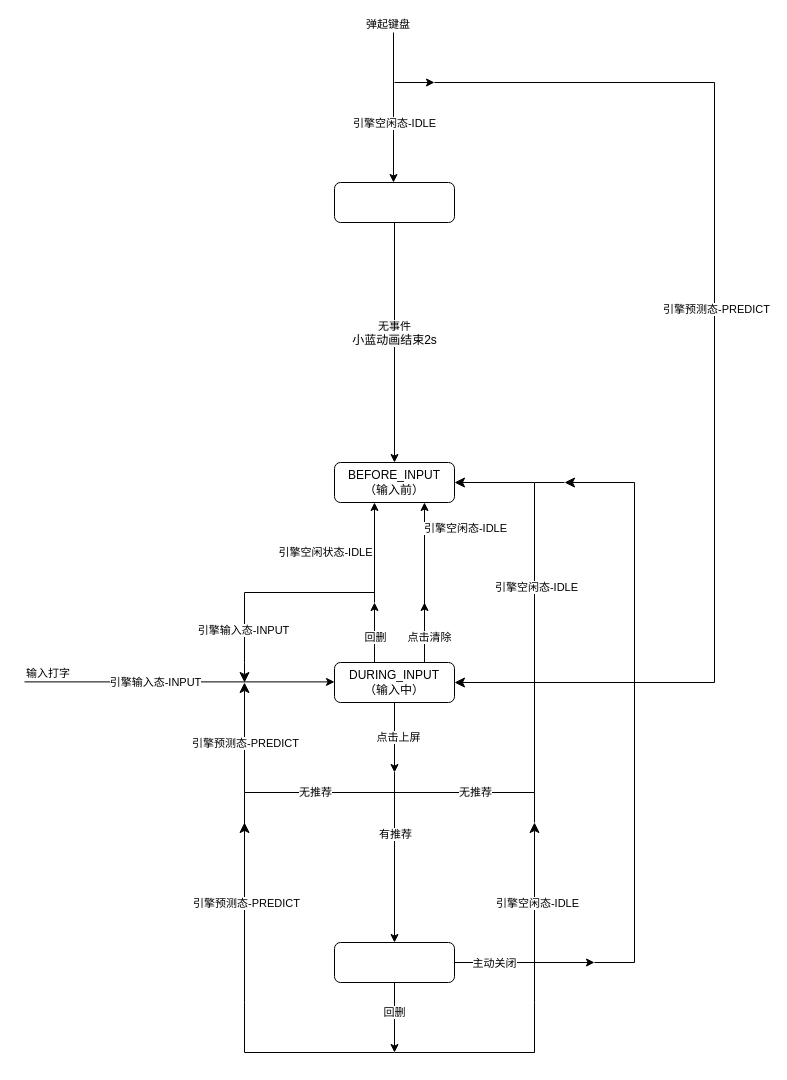
Some shapes in this 787 by 1080 pixel diagram are drawn without their labels. Each missing label, with the centre of its shape:
AFTER_INPUT （上屏后）: [394,962]
GREETING （打招呼）: [394,202]
